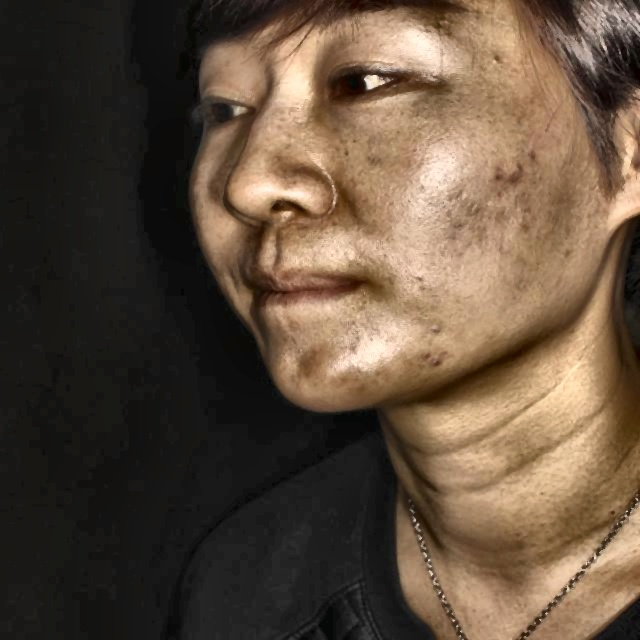comedone: (476, 162, 520, 196), (418, 340, 448, 371)
